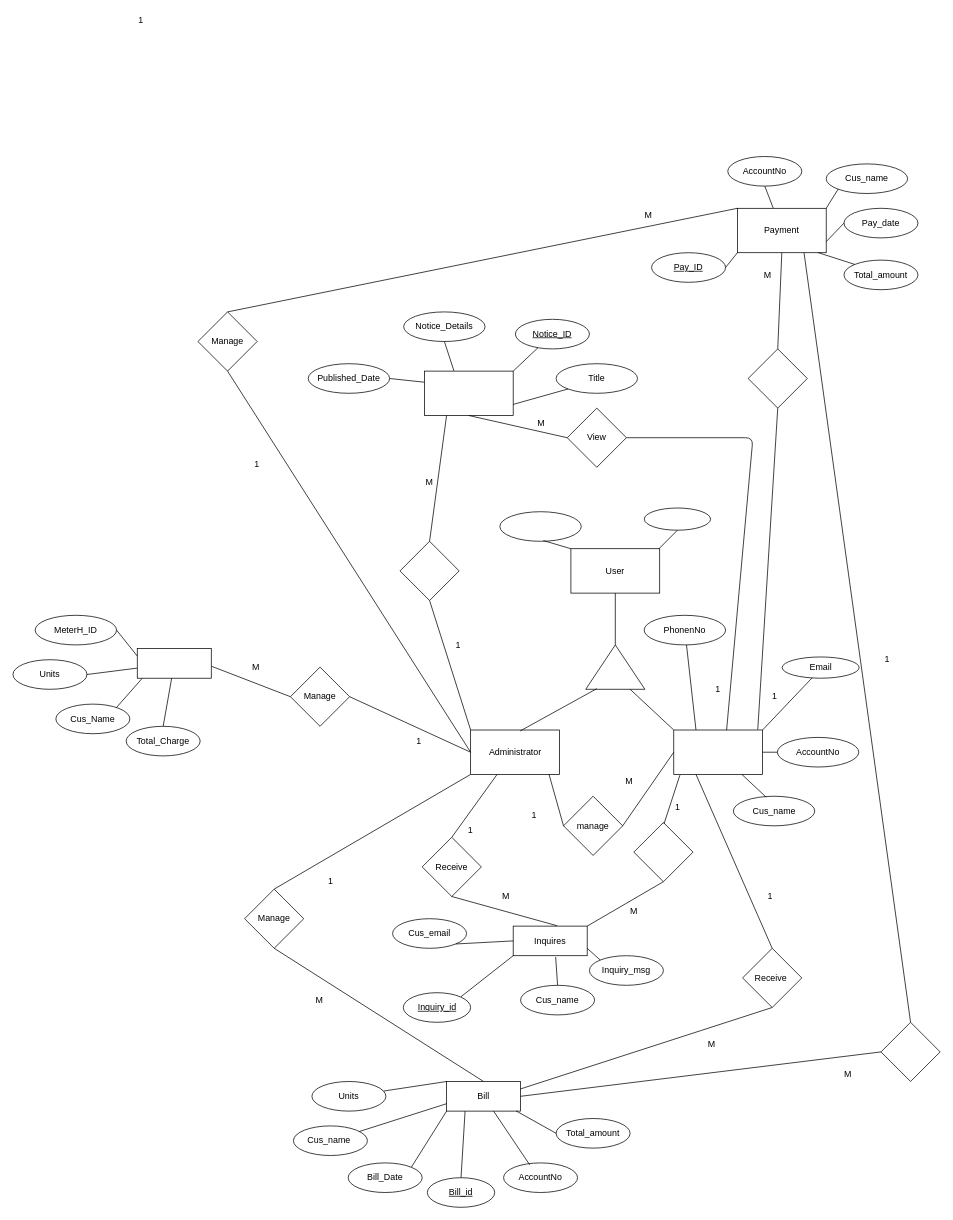
The diagram is 953 pixels wide and 1220 high, and some of its shapes have lost their labels. The centre of each missing label's shape, as x and y in pixels:
"Add" goes at pixel 429 571.
"Customer" goes at pixel 718 751.
"has" goes at pixel 910 1052.
"ISA" goes at pixel 615 666.
"MeterHandling" goes at pixel 174 663.
"Notices" goes at pixel 468 393.
"Pay" goes at pixel 777 378.
"Send" goes at pixel 663 852.
"User_ID" goes at pixel 677 518.
"User_Name" goes at pixel 540 526.
